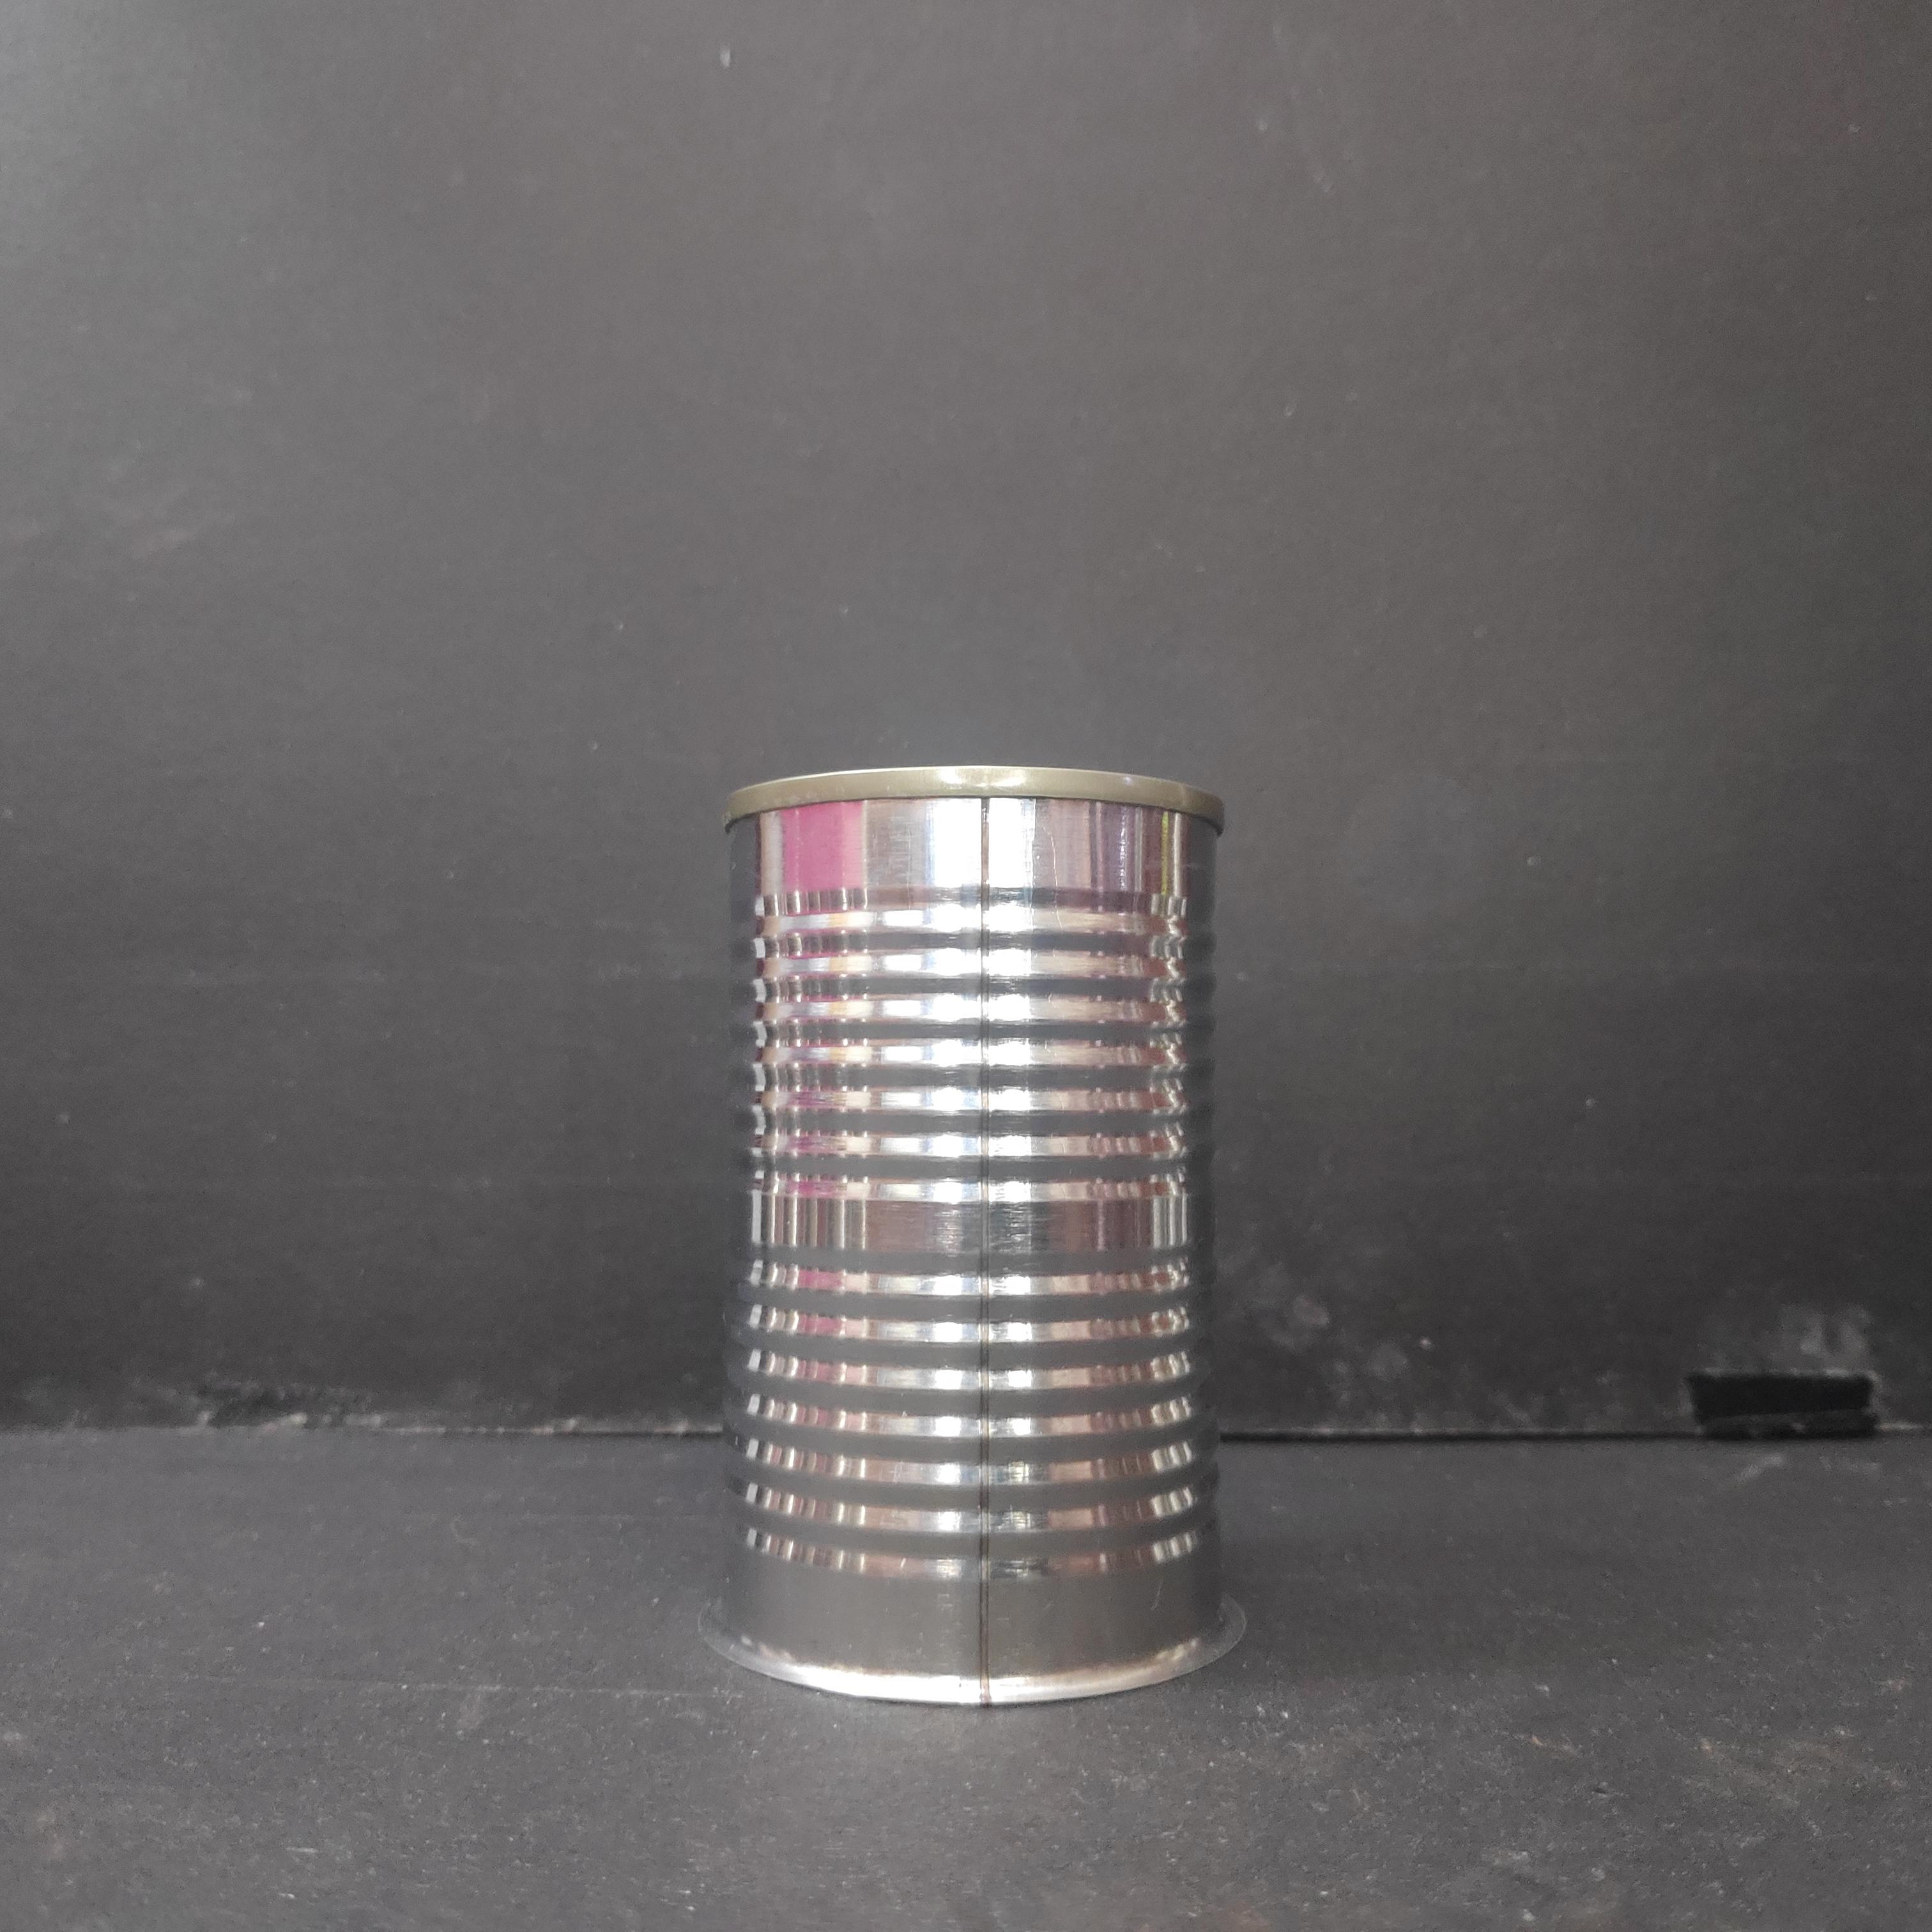No defect: (701, 752, 1247, 1718)
